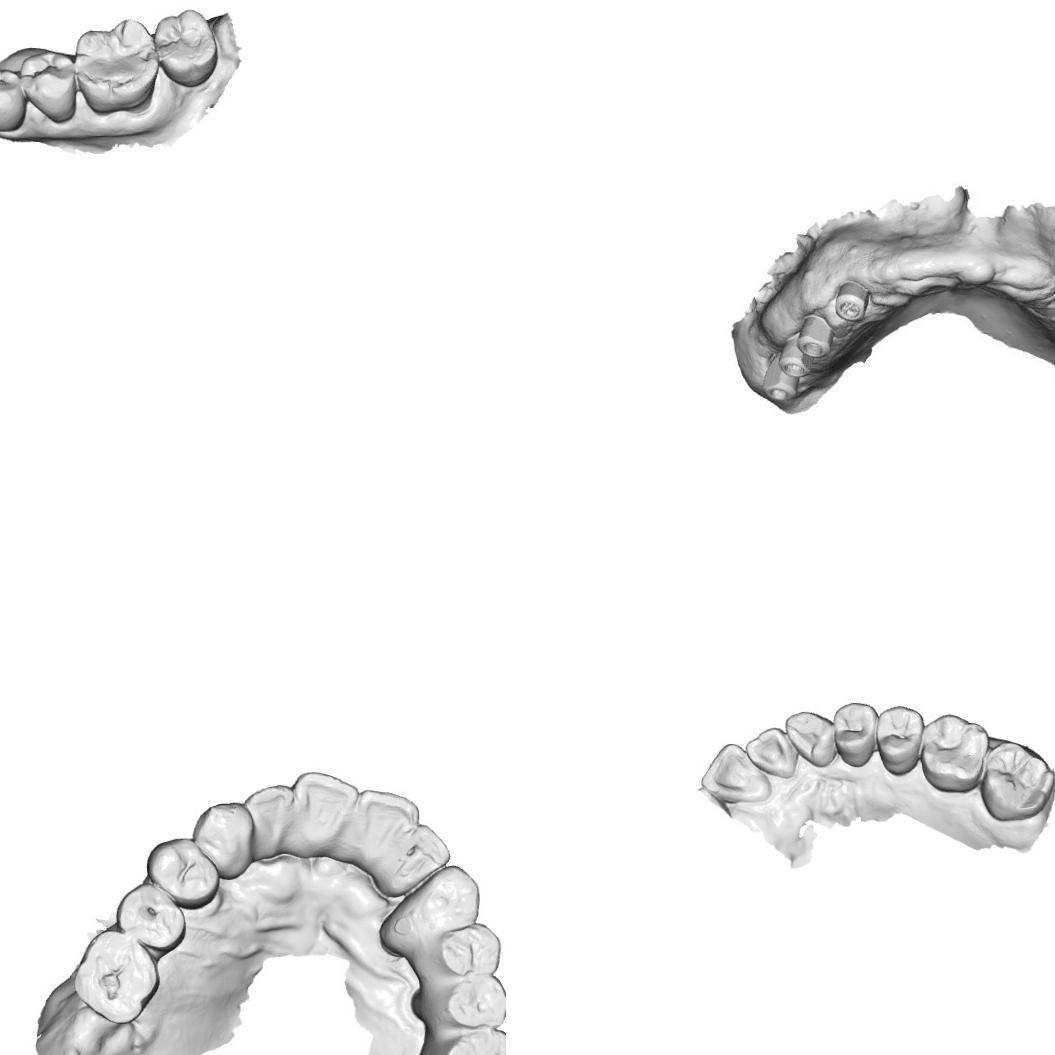canine: (411, 862, 483, 941), (193, 800, 252, 881), (782, 708, 838, 770)
implant: (764, 358, 802, 404), (831, 278, 870, 320), (779, 338, 818, 378), (797, 317, 834, 357)
incisor: (290, 768, 357, 852), (354, 785, 422, 863), (698, 740, 773, 806), (242, 783, 296, 862), (396, 821, 454, 878), (744, 726, 798, 780)
molar: (70, 926, 160, 1028), (74, 16, 159, 118), (978, 738, 1055, 823), (918, 711, 990, 794), (154, 8, 218, 90), (426, 1027, 506, 1055)
premolar: (144, 834, 223, 910), (114, 880, 187, 955), (433, 971, 506, 1033), (426, 922, 504, 980), (20, 48, 78, 124), (874, 703, 924, 777), (832, 701, 879, 767), (0, 67, 28, 133)
